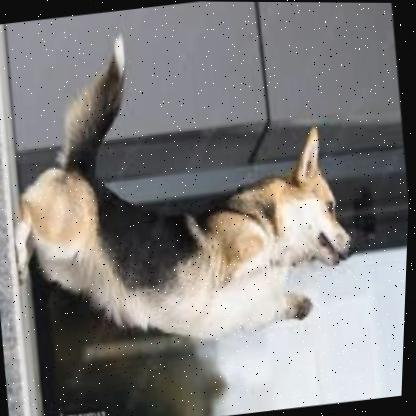dog: (0, 5, 370, 362)
